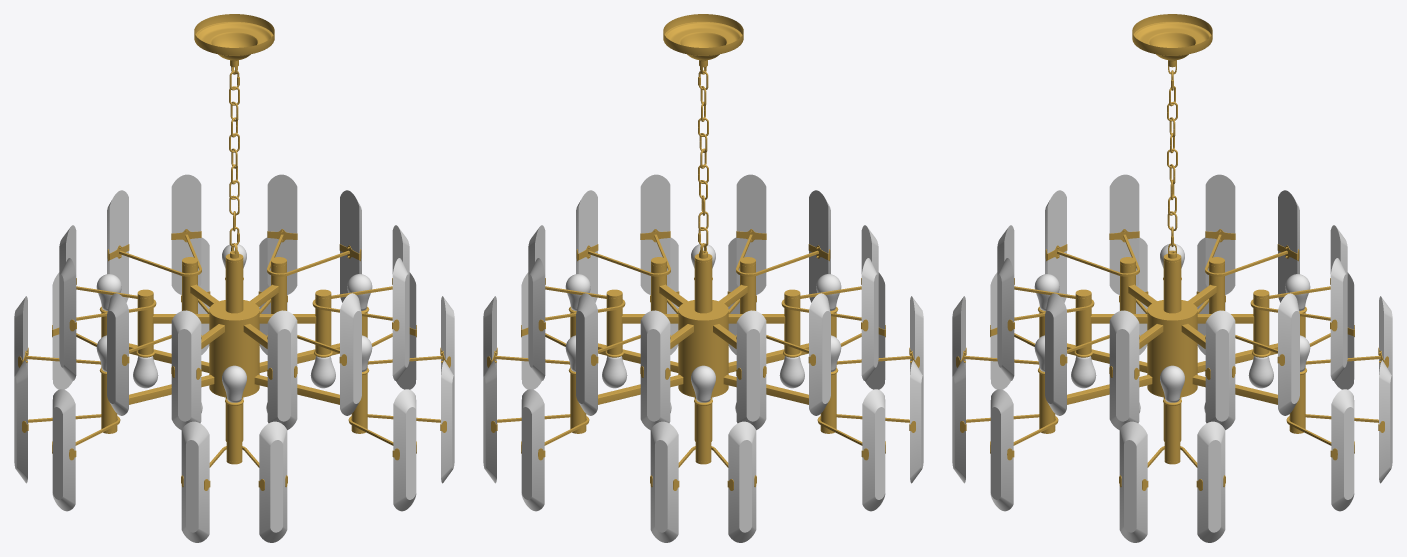
The model's file is Hanging Light.fbx.
The picture shows the model from 3 angles, left to right: view 1: azimuth 30°, elevation 25°; view 2: azimuth 150°, elevation 25°; view 3: azimuth 270°, elevation 25°; orthographic projection.
Parts seen in each view (by area): view 1: Glass Crystal, Golden Body, Glass Bulb, Golden Body.001; view 2: Glass Crystal, Golden Body, Glass Bulb, Golden Body.001; view 3: Glass Crystal, Golden Body, Glass Bulb, Golden Body.001.
Part boxes in pixels (x1,y1,x2,y2): Glass Crystal: (14,174,454,542); Golden Body: (18,14,450,490); Glass Bulb: (96,244,372,412); Golden Body.001: (229,70,239,246); Glass Crystal: (483,174,923,542); Golden Body: (487,14,919,490); Glass Bulb: (565,244,841,412); Golden Body.001: (698,70,708,246); Glass Crystal: (952,174,1392,542); Golden Body: (956,14,1388,490); Glass Bulb: (1034,244,1310,412); Golden Body.001: (1167,70,1177,246).
Size of the model in its own units: 60.71 by 60.86 by 57.92.
